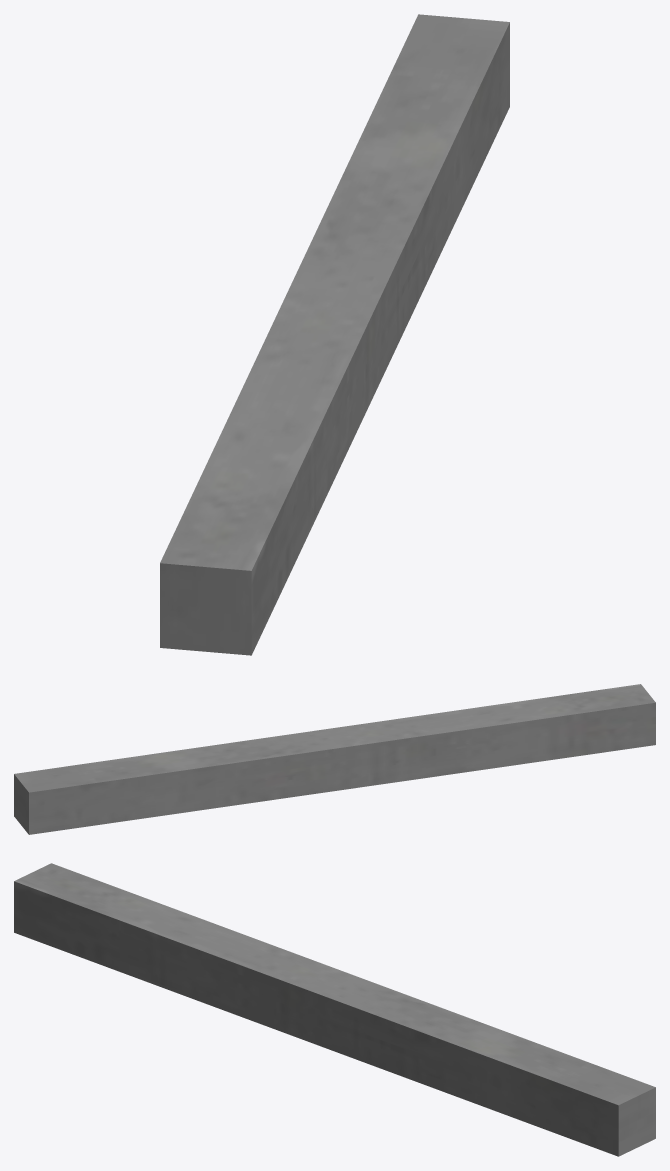
Rendered from support_ladder__ladder_side_rail_1.glb.
3 views of the same model, one above another, from view 1: azimuth 30°, elevation 25°; view 2: azimuth 150°, elevation 25°; view 3: azimuth 270°, elevation 25° (orthographic). The views are drawn at different scales.
Parts seen in each view (by area): view 1: world; view 2: world; view 3: world.
Part boxes in pixels (x1,y1,x2,y2): world: (160, 14, 509, 655); world: (14, 684, 655, 834); world: (14, 863, 655, 1156).
Size of the model in its own units: 0.3028 by 0.03 by 0.3393.
Materials: 1 (1 with a texture image).
